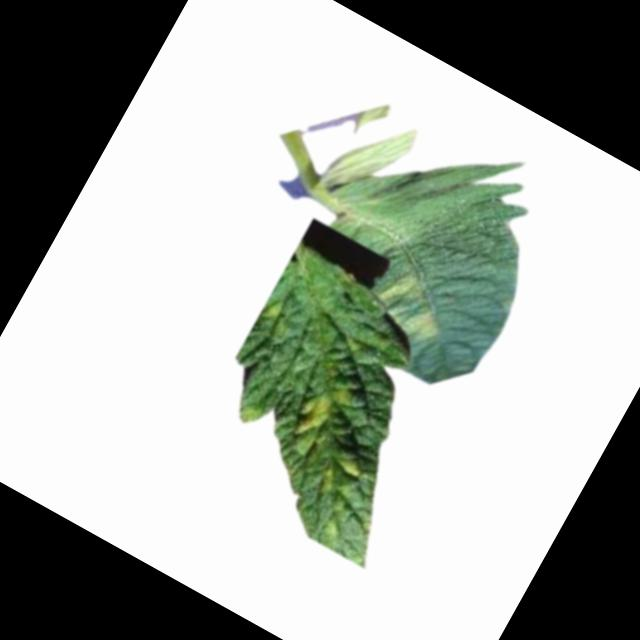Leaf_Mold: (282, 373, 358, 462), (314, 448, 371, 509), (375, 262, 433, 318), (400, 303, 447, 348)
